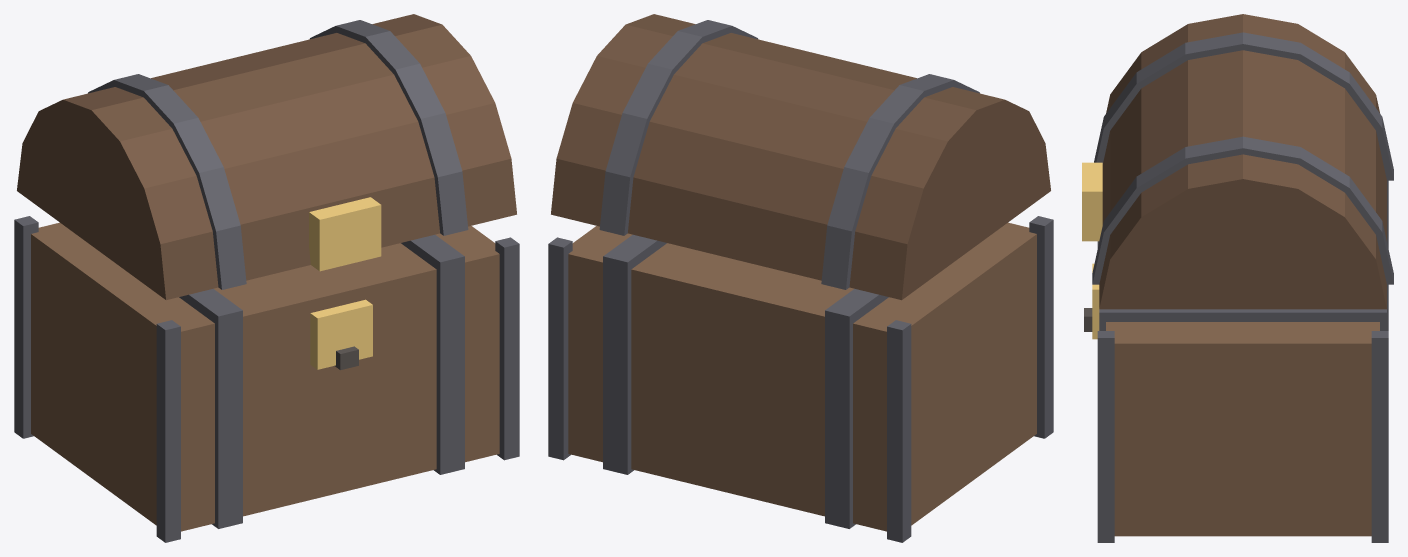
The model's file is chest.glb.
The picture shows the model from 3 angles, left to right: view 1: azimuth 30°, elevation 25°; view 2: azimuth 150°, elevation 25°; view 3: azimuth 270°, elevation 25°; orthographic projection. The views are drawn at different scales.
Parts seen in each view (by area): view 1: Body, Lid; view 2: Body, Lid; view 3: Lid, Body.
Boxes of the visible parts, x1,y1,x2,y2 form: Body: [14, 216, 519, 542]; Lid: [17, 14, 516, 300]; Body: [548, 216, 1053, 542]; Lid: [551, 14, 1050, 300]; Lid: [1082, 14, 1393, 309]; Body: [1084, 180, 1388, 542].
Size of the model in its own units: 1.15 by 1.19 by 0.91.
